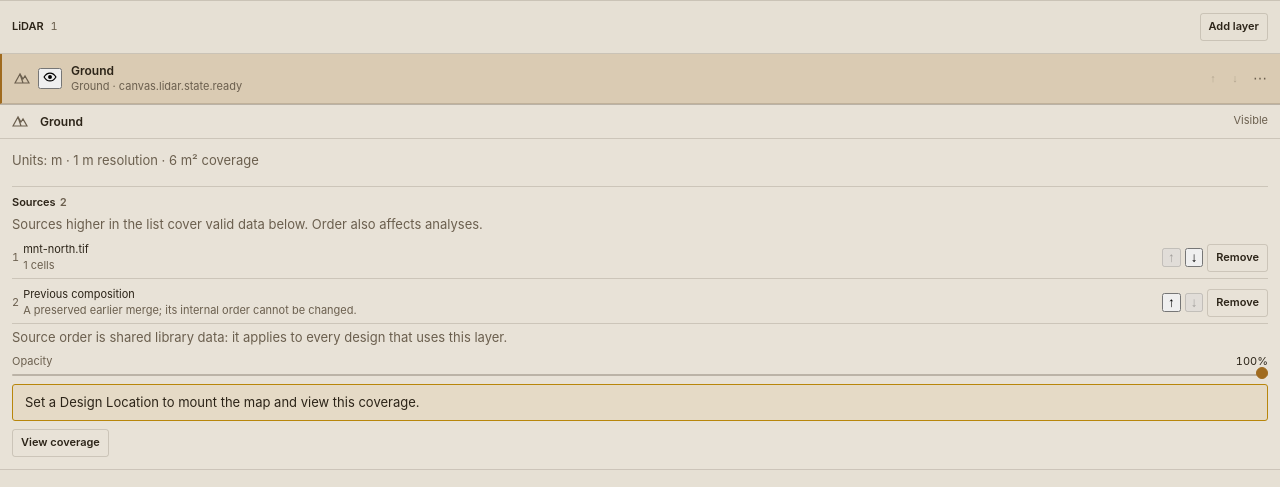
Test case: ordered layer priority panel › disables Undo when the walk is exhausted
Step 1. Click the button named "Layer actions" → (1260, 78), box x1=1248 y1=66 x2=1272 y2=90
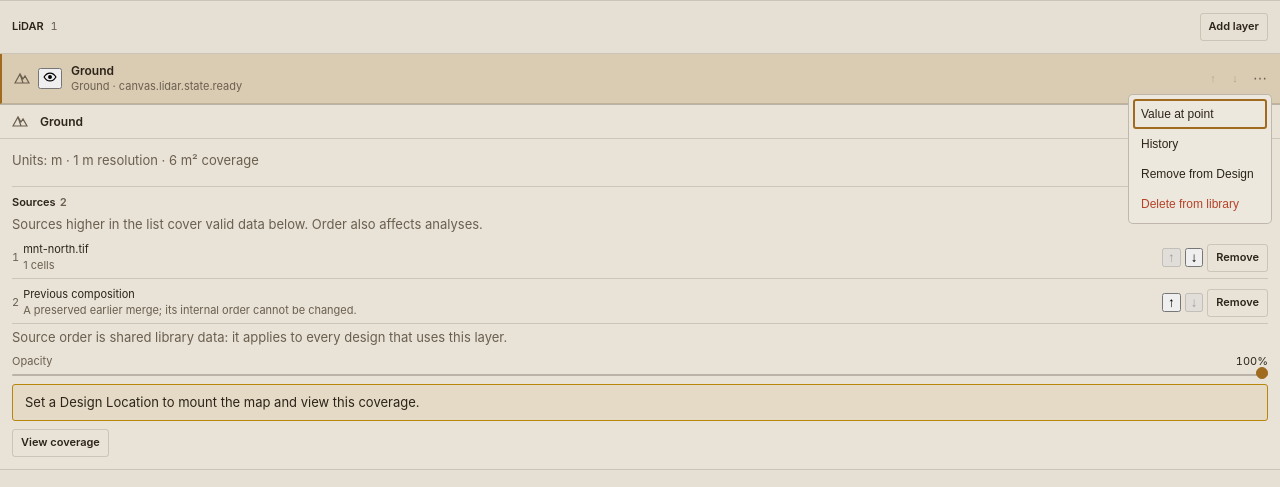
Expected: the menu item "History" is shown
Step 2. Click the menu item "History" → (1200, 144), box x1=1133 y1=129 x2=1267 y2=159
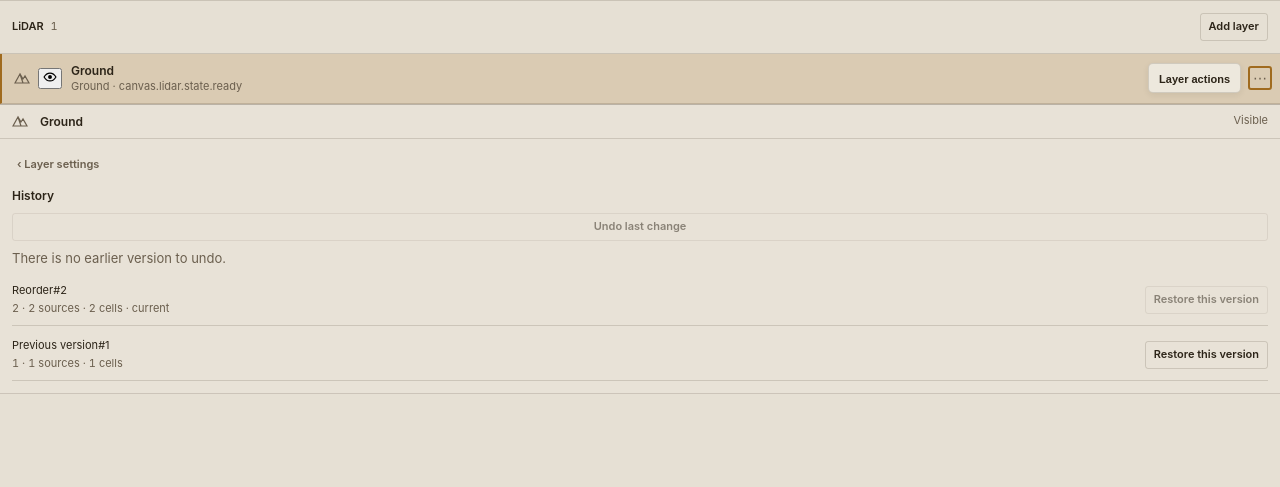
Expected: the button "Undo last change" is disabled, x1=12 y1=212 x2=1268 y2=240
Expected: the text "There is no earlier version to undo." is shown, x1=12 y1=250 x2=226 y2=266
